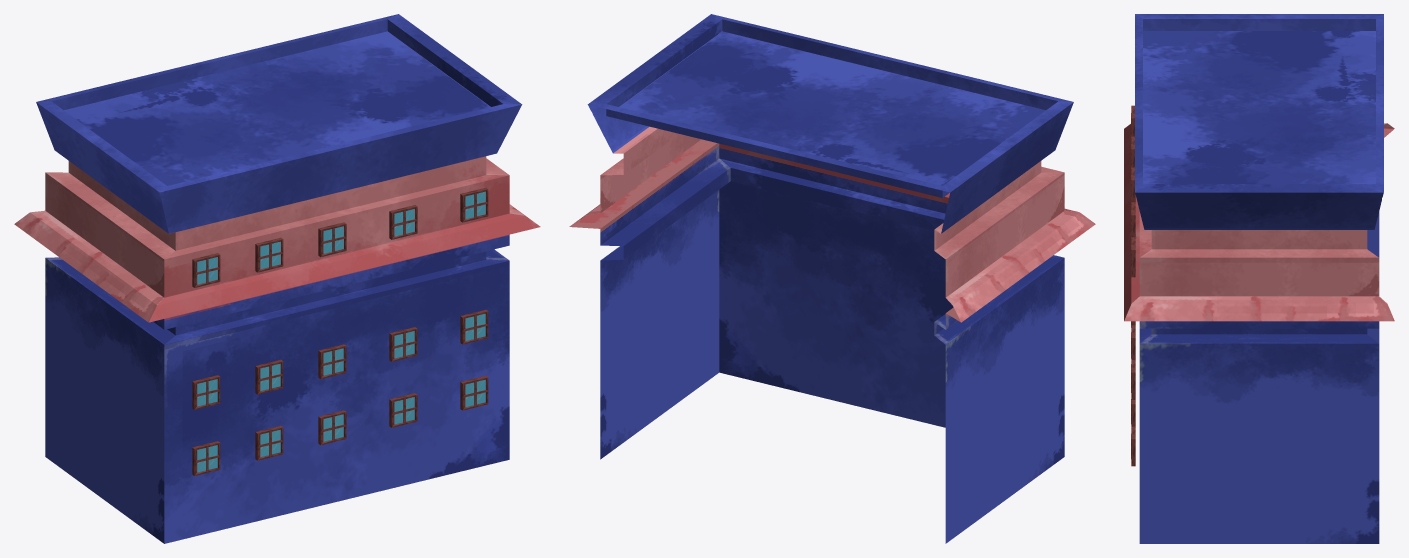
File: Modelo_Predio4.fbx
The picture shows the model from 3 angles, left to right: view 1: azimuth 30°, elevation 25°; view 2: azimuth 150°, elevation 25°; view 3: azimuth 270°, elevation 25°; orthographic projection.
Visible parts, largest first — view 1: Predio_Variacao_4; view 2: Predio_Variacao_4; view 3: Predio_Variacao_4.
Part boxes in pixels (bbox=[...]): Predio_Variacao_4: bbox=[14, 14, 540, 543]; Predio_Variacao_4: bbox=[569, 14, 1095, 543]; Predio_Variacao_4: bbox=[1124, 14, 1394, 543].
Bounding box in the file's own units: 4974 × 4309 × 2956.
